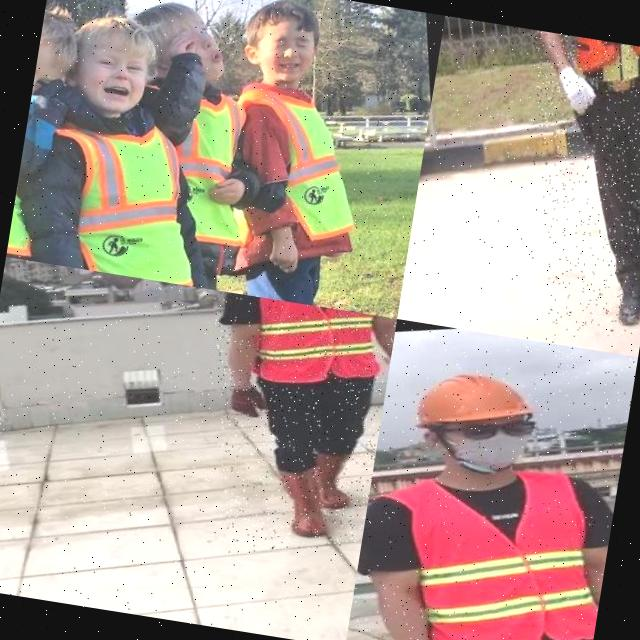boots: (270, 461, 340, 546), (314, 448, 369, 516), (607, 277, 640, 331)
helmet: (395, 349, 541, 450)
vest: (383, 444, 619, 640), (44, 80, 218, 286), (228, 61, 383, 270), (156, 67, 278, 263), (236, 296, 390, 402), (547, 33, 640, 107)
